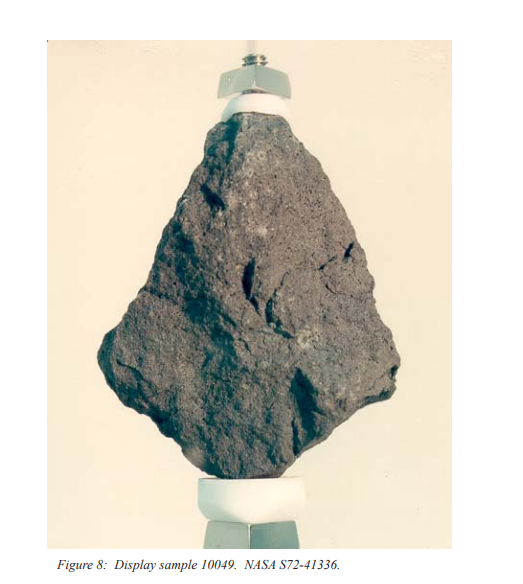Basalt: (76, 104, 416, 476)
